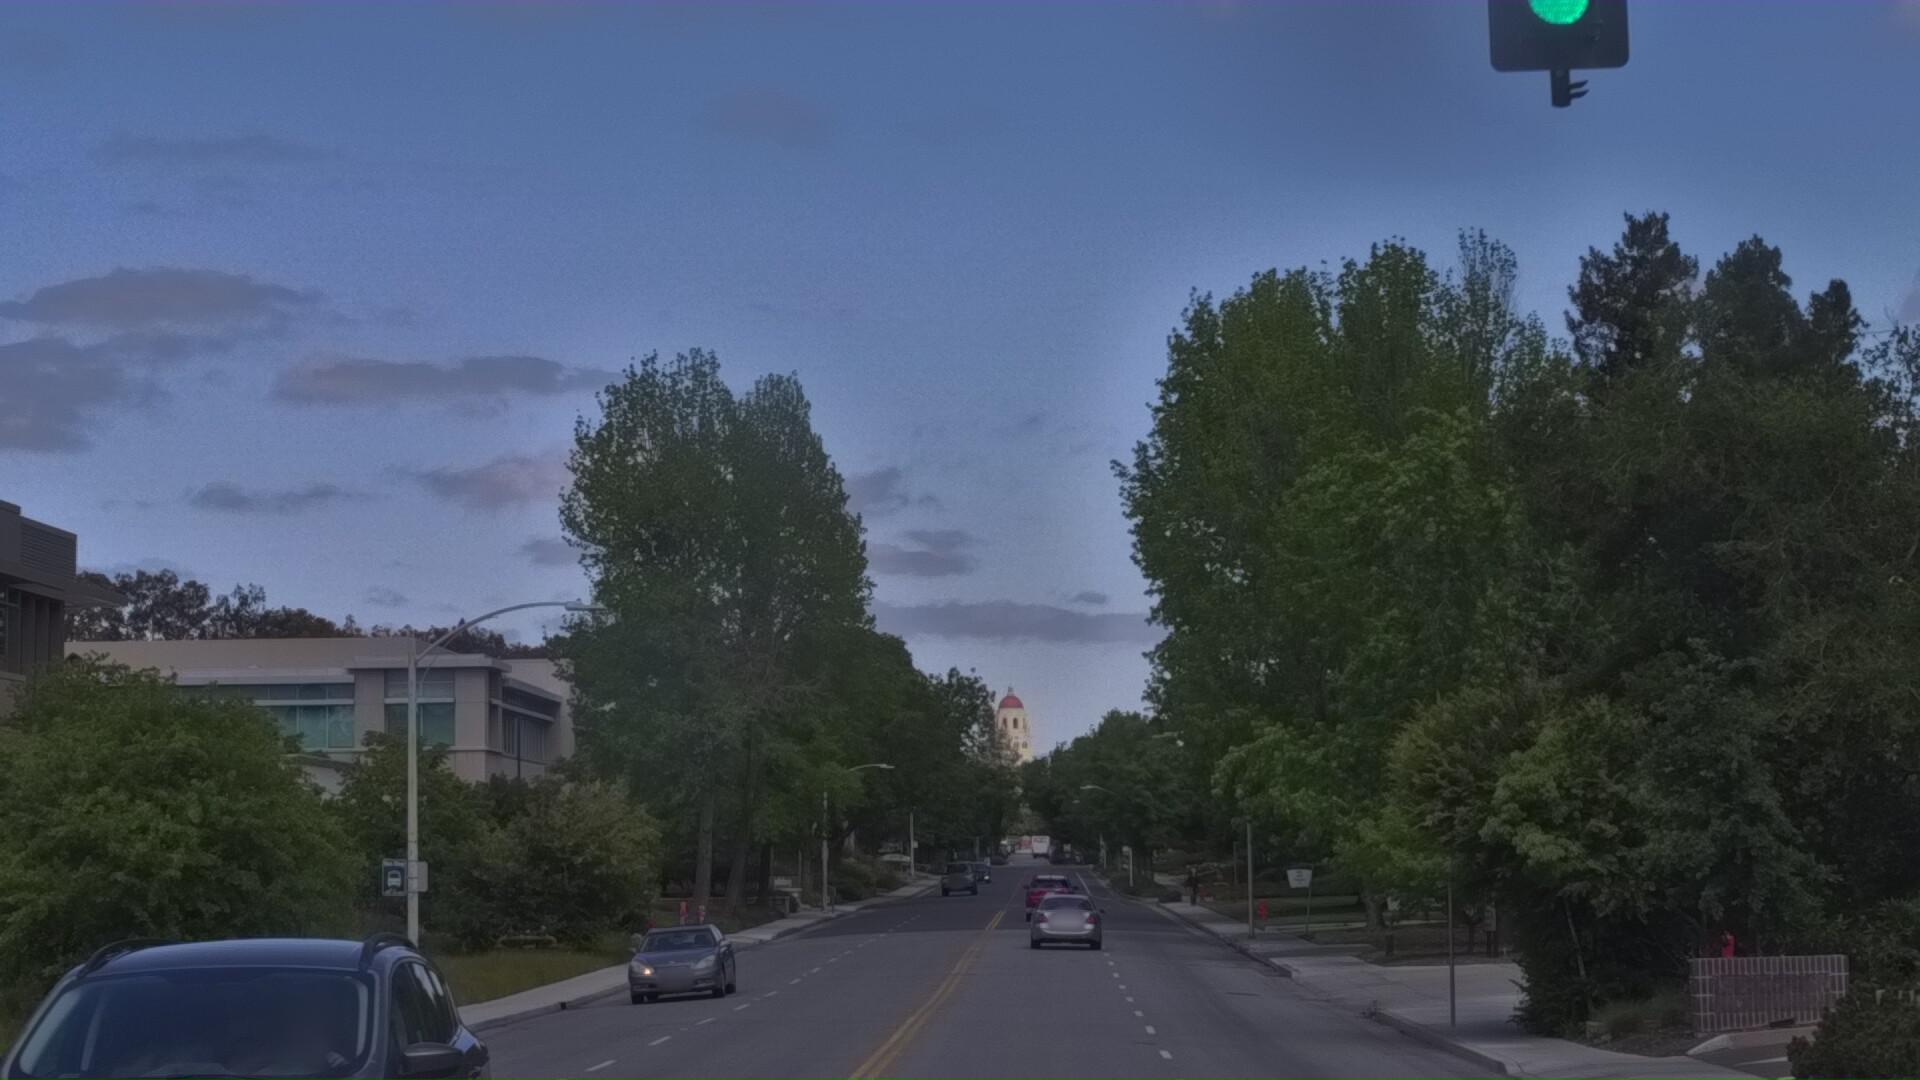car: (0, 928, 555, 1080), (613, 957, 744, 1060)
